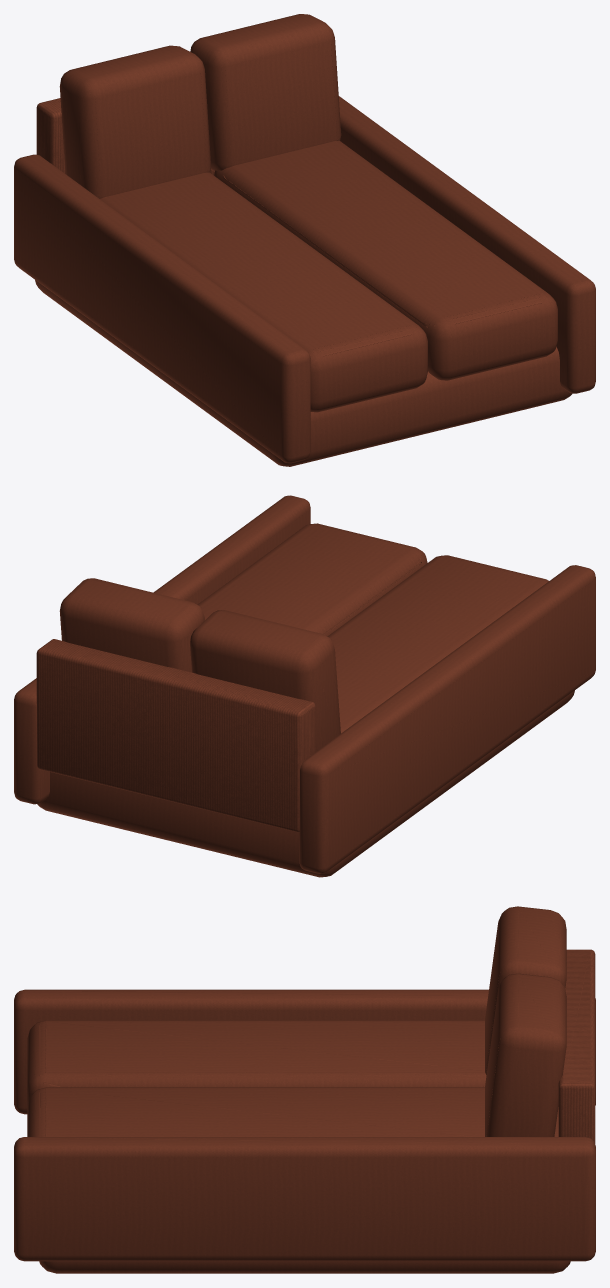
File: boneless-chaise.glb
The picture shows the model from 3 angles, top to bottom: view 1: azimuth 30°, elevation 25°; view 2: azimuth 150°, elevation 25°; view 3: azimuth 270°, elevation 25°; orthographic projection. The views are drawn at different scales.
Visible parts, largest first — view 1: catalog_surface_UVMap, catalog_surface_RealismUV; view 2: catalog_surface_UVMap; view 3: catalog_surface_UVMap, catalog_surface_RealismUV.
Boxes of the visible parts, bbox=[...] form: catalog_surface_UVMap: bbox=[14, 14, 595, 466]; catalog_surface_RealismUV: bbox=[94, 38, 551, 355]; catalog_surface_UVMap: bbox=[14, 495, 595, 877]; catalog_surface_UVMap: bbox=[14, 906, 595, 1273]; catalog_surface_RealismUV: bbox=[34, 972, 500, 1136].
Size of the model in its own units: 1.15 by 0.78 by 1.75.
2 materials, 1 textured.
